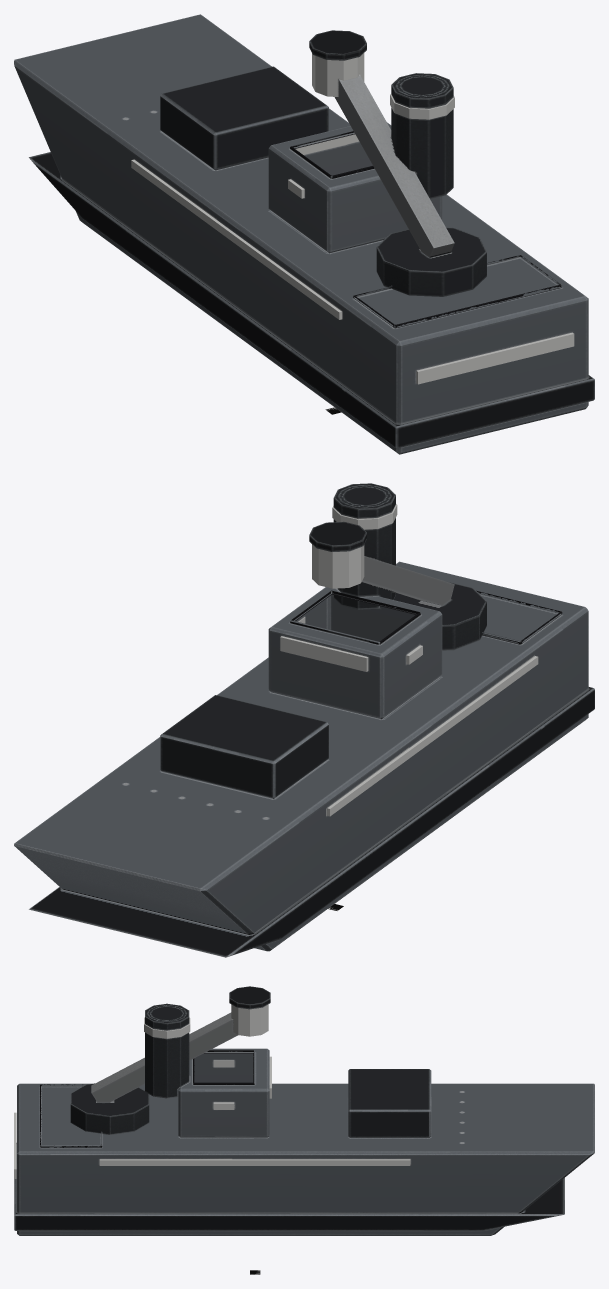
Rendered from chs_wrecker.fbx.
The picture shows the model from 3 angles, top to bottom: view 1: azimuth 30°, elevation 25°; view 2: azimuth 150°, elevation 25°; view 3: azimuth 270°, elevation 25°; orthographic projection. The views are drawn at different scales.
Parts seen in each view (by area): view 1: base_bar, nano_bar, base_glow_running_bar, nano_glow_power_bar; view 2: base_bar, nano_bar, base_glow_running_bar, nano_glow_power_bar; view 3: base_bar, nano_bar, base_glow_running_bar, nano_glow_power_bar.
Part boxes in pixels (x1,y1,x2,y2): base_bar: (14,14,594,454); nano_bar: (309,30,486,296); base_glow_running_bar: (131,94,574,384); nano_glow_power_bar: (312,53,364,96); base_bar: (14,483,594,957); nano_bar: (309,521,486,650); base_glow_running_bar: (280,504,538,816); nano_glow_power_bar: (312,544,364,588); base_bar: (14,1003,594,1235); nano_bar: (70,986,270,1134); base_glow_running_bar: (14,1017,410,1178); nano_glow_power_bar: (231,1004,268,1036).
Bounding box in the file's own units: 332 × 590 × 1122.
Materials: 2 (2 with a texture image).
